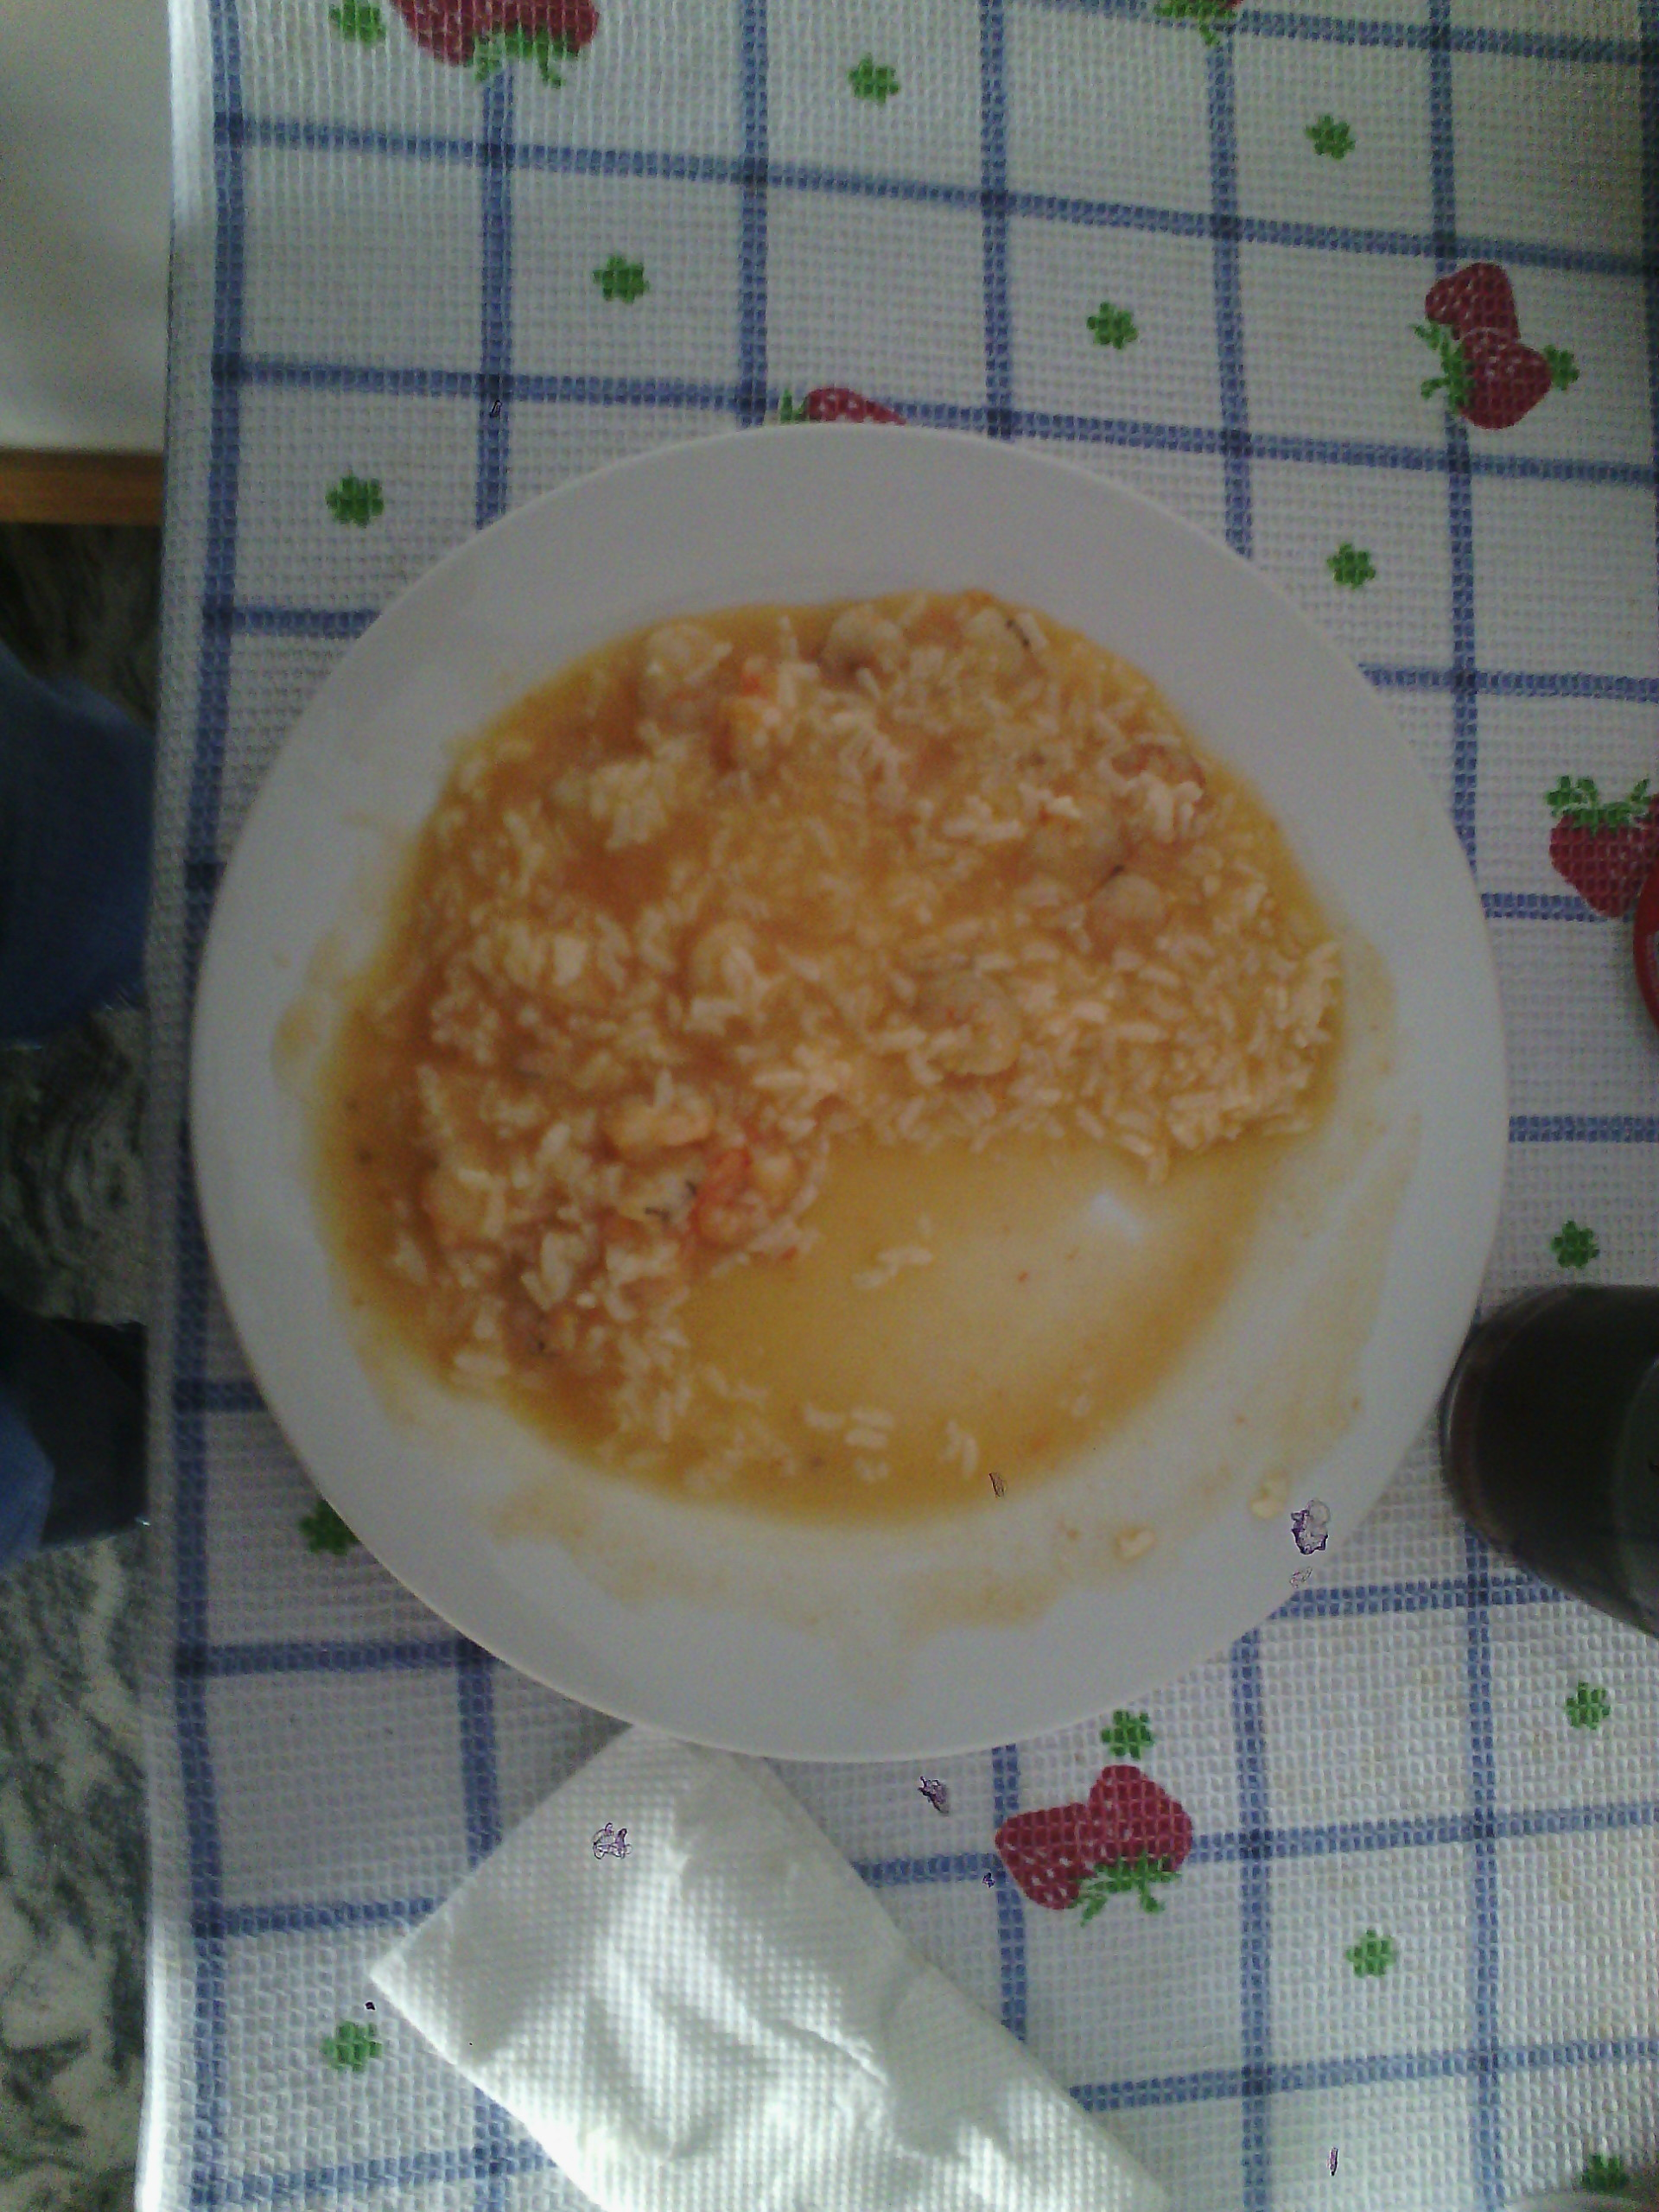61-80: (195, 427, 1504, 1756)
